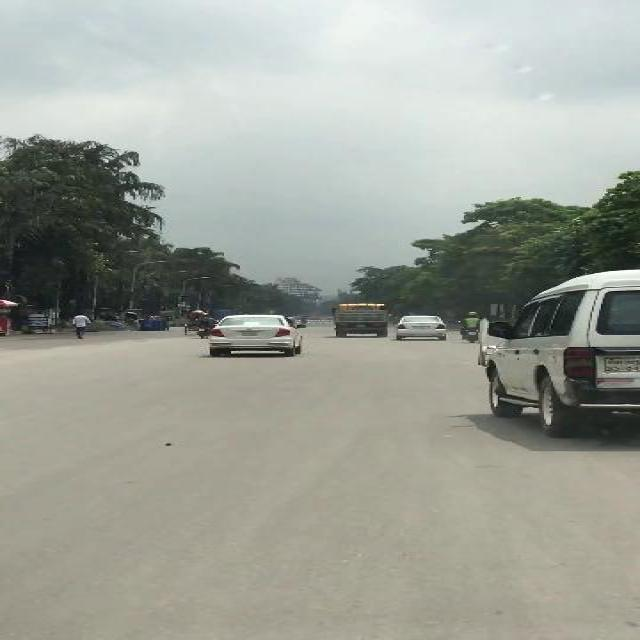car: (478, 271, 598, 433), (206, 313, 306, 357), (395, 313, 446, 341)
motorcycle: (453, 310, 480, 343), (190, 314, 213, 338), (181, 310, 201, 334)
truck: (327, 302, 389, 338)
